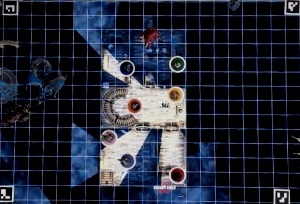blue: (120, 58, 136, 75)
green: (169, 54, 188, 72)
orange: (124, 97, 144, 115)
pink: (100, 128, 118, 146)
red: (169, 166, 186, 185)
violet: (118, 153, 138, 169)
yellow: (167, 84, 185, 101)
